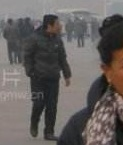person: (56, 14, 123, 144), (23, 13, 74, 141), (3, 18, 21, 64), (74, 16, 87, 48), (91, 17, 101, 43), (64, 18, 74, 43), (23, 16, 34, 36)
